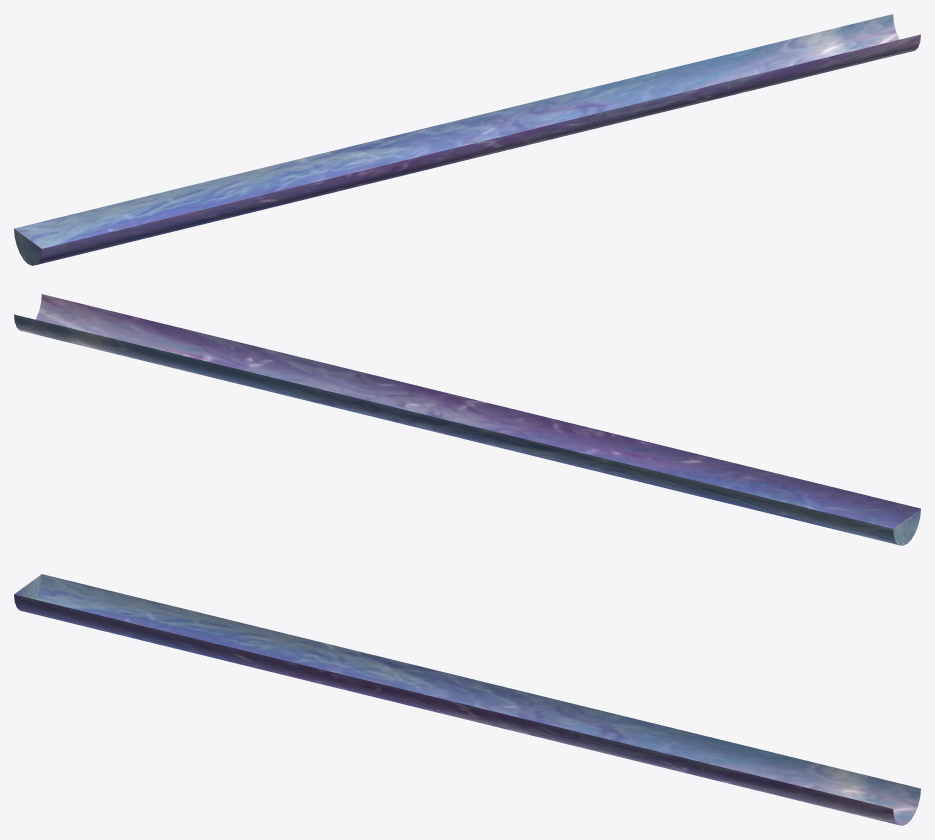
Rendered from gutter4.obj.
3 views of the same model, one above another, from view 1: azimuth 30°, elevation 25°; view 2: azimuth 150°, elevation 25°; view 3: azimuth 330°, elevation 25° (orthographic).
Parts seen in each view (by area): view 1: pCylinder1; view 2: pCylinder1; view 3: pCylinder1.
Part boxes in pixels (x1,y1,x2,y2): pCylinder1: [14, 14, 920, 265]; pCylinder1: [14, 294, 920, 545]; pCylinder1: [14, 574, 920, 825].
Bounding box in the file's own units: 118 × 3.24 × 6.49.
Materials: 1 (1 with a texture image).
